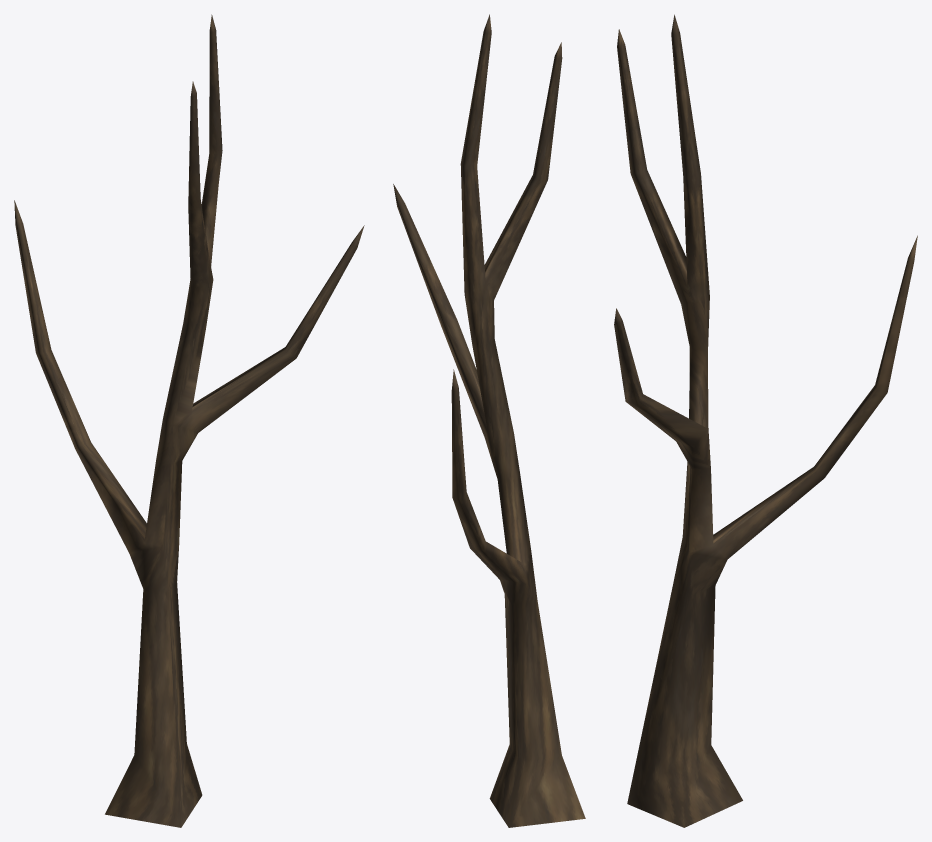
File: Tree_Bare_3.fbx
The picture shows the model from 3 angles, left to right: view 1: azimuth 30°, elevation 25°; view 2: azimuth 150°, elevation 25°; view 3: azimuth 270°, elevation 25°; orthographic projection. The views are drawn at different scales.
Visible parts, largest first — view 1: Cube.081; view 2: Cube.081; view 3: Cube.081.
Part boxes in pixels (x1,y1,x2,y2): Cube.081: (14, 14, 364, 827); Cube.081: (393, 14, 585, 827); Cube.081: (614, 14, 917, 827).
Size of the model in its own units: 157 by 518 by 175.
Materials: 1 (1 with a texture image).
